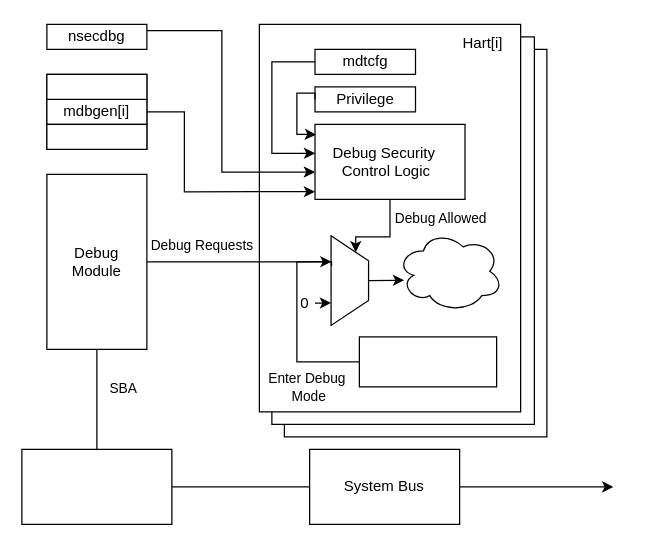
The diagram is 646 pixels wide and 546 high, and some of its shapes have lost their labels. Here are the shapes that lost their labels. From the top down, the centre of each, then its label:
the point at 449,270: Hart Control Logic
the point at 427,361: Trigger Module
the point at 96,486: IOPMP
